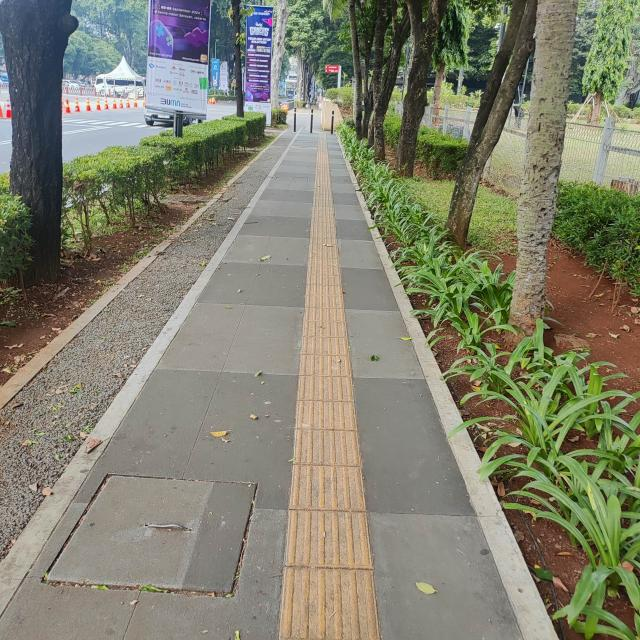lurus: (286, 118, 375, 640)
